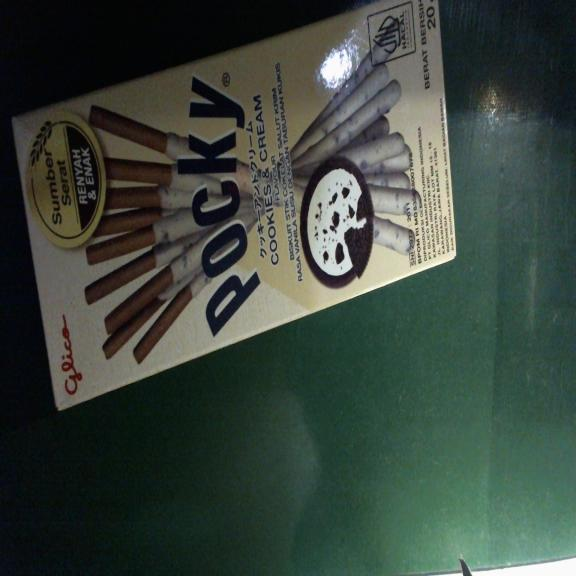Kertas: (11, 0, 458, 408)
